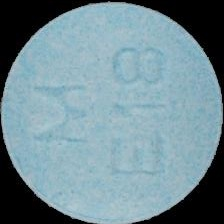0615-7909: (0, 0, 224, 224)
